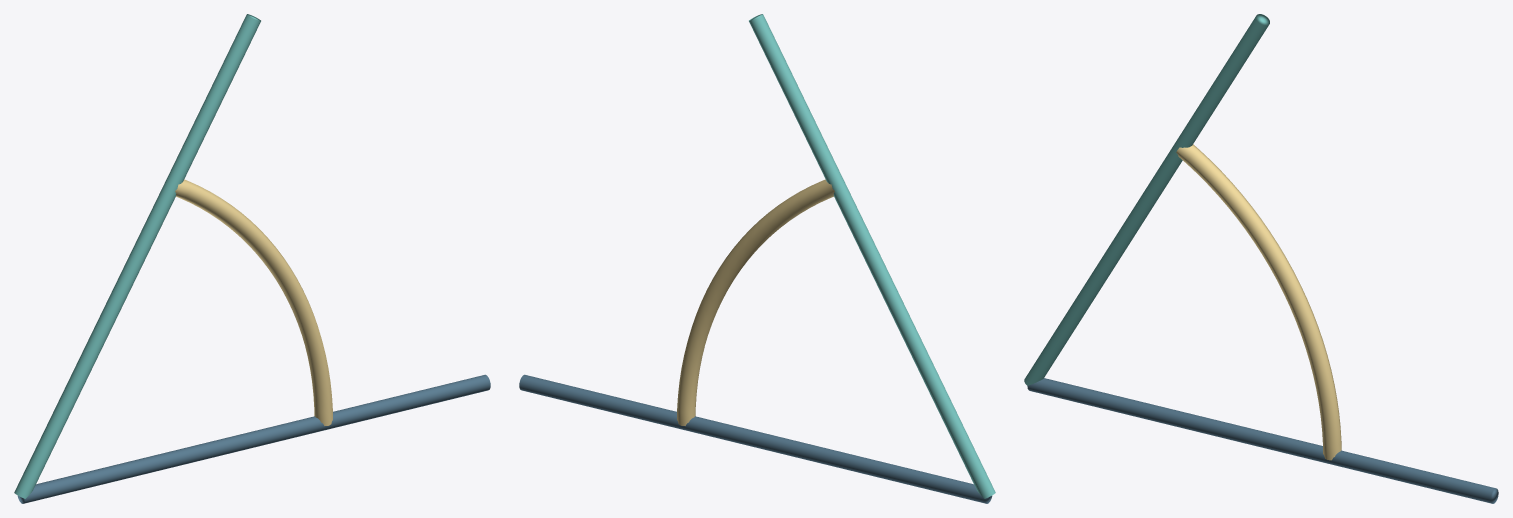
The model's file is angle-indicator.glb.
3 views of the same model, side by side, from view 1: azimuth 30°, elevation 25°; view 2: azimuth 150°, elevation 25°; view 3: azimuth 330°, elevation 25° (orthographic).
Parts seen in each view (by area): view 1: angle_arm, zero_arm, angle_arc; view 2: angle_arm, zero_arm, angle_arc; view 3: zero_arm, angle_arm, angle_arc.
Boxes of the visible parts, x1,y1,x2,y2 form: angle_arm: [14, 14, 260, 498]; zero_arm: [17, 374, 490, 503]; angle_arc: [175, 179, 332, 425]; angle_arm: [749, 14, 995, 498]; zero_arm: [519, 374, 992, 503]; angle_arc: [677, 179, 834, 425]; zero_arm: [1027, 378, 1498, 503]; angle_arm: [1024, 14, 1269, 385]; angle_arc: [1176, 144, 1341, 460].
Size of the model in its own units: 1.01 by 0.8885 by 0.036.
